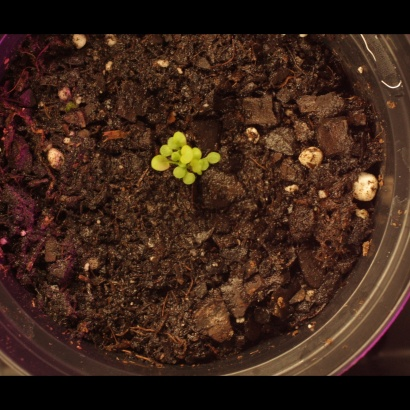leaf: (148, 154, 171, 177), (181, 170, 204, 193), (164, 168, 187, 191), (209, 147, 232, 170), (151, 137, 174, 160), (167, 125, 190, 148), (176, 144, 199, 167), (191, 139, 214, 162)
